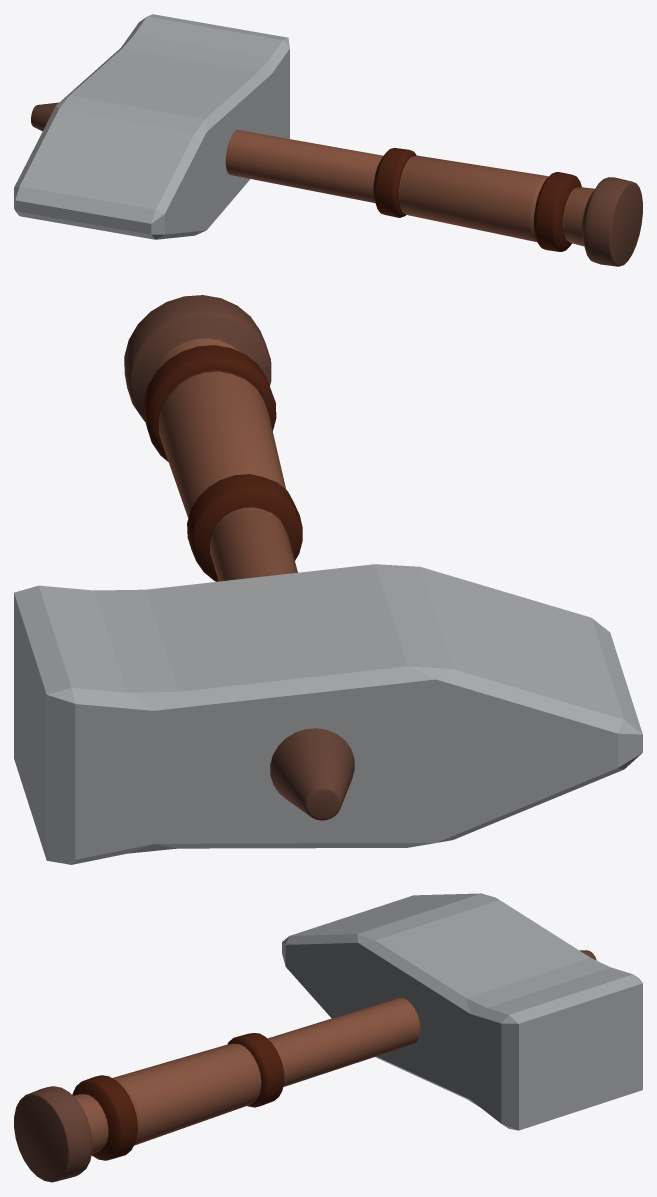
File: bs-hammer.fbx
3 renders of one model, top to bottom at view 1: azimuth 30°, elevation 25°; view 2: azimuth 150°, elevation 25°; view 3: azimuth 270°, elevation 25°, orthographic. The views are drawn at different scales.
Parts seen in each view (by area): view 1: metal_base_low.002; view 2: metal_base_low.002; view 3: metal_base_low.002.
Boxes of the visible parts, <box> form: metal_base_low.002: <box>14,14,642,266</box>; metal_base_low.002: <box>14,295,642,864</box>; metal_base_low.002: <box>14,893,642,1182</box>.
Size of the model in its own units: 79.65 by 17.7 by 86.41.
